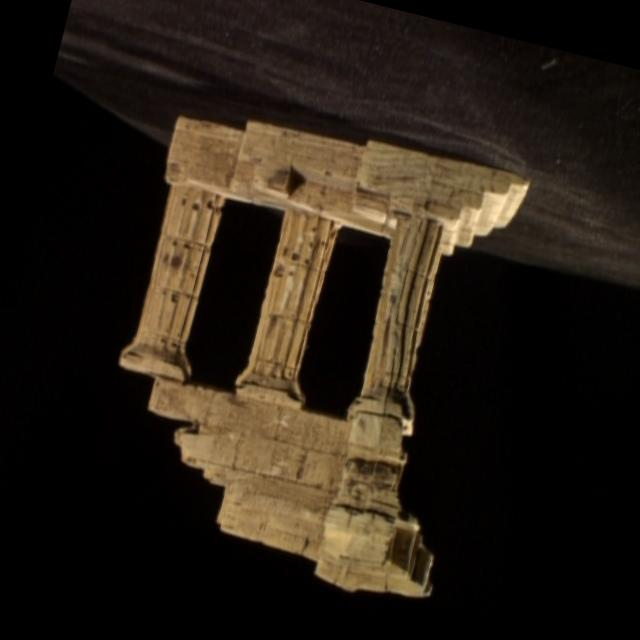Instance-Segmentation: (121, 116, 528, 596)
